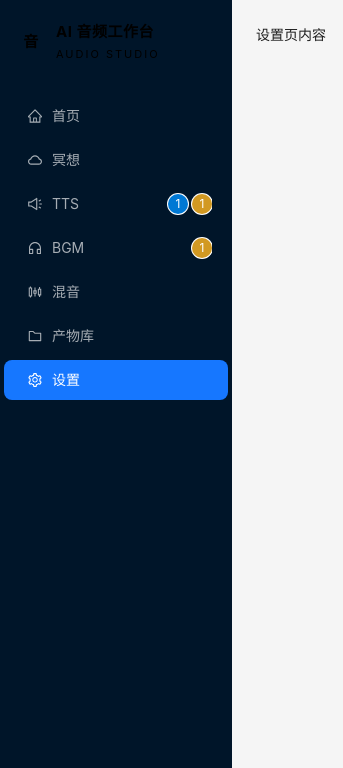
AppLayout › shows queued/running badges and keeps the navigation clickable
Expected: the element named "TTS：1 个运行中，1 个排队中" is shown, 168,194 -> 212,214
Expected: the element named "BGM：0 个运行中，1 个排队中" is shown, 192,238 -> 212,258
Click the menu item "TTS 1 1" at point(35, 204), box 28,194 -> 212,214
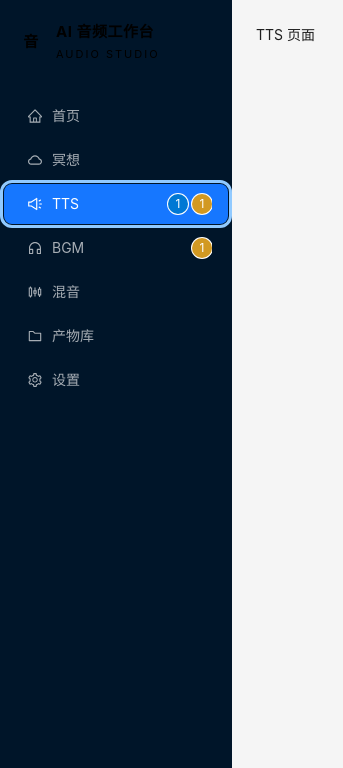
Now the text "TTS 页面" is shown, box 256,26 -> 315,43
